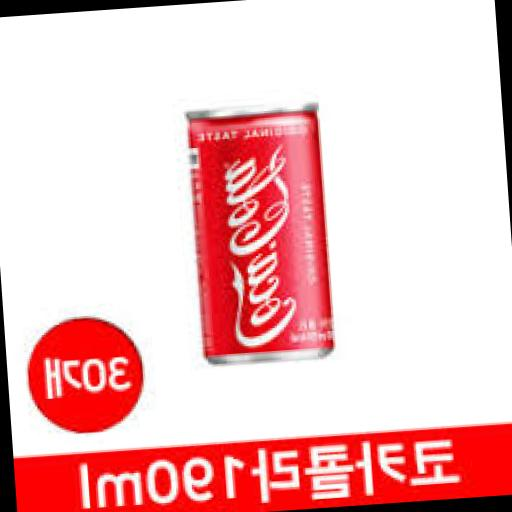Coca: (171, 91, 348, 374)
